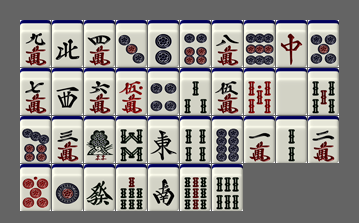0m: (116, 68, 147, 115)
0p: (20, 164, 51, 211)
0s: (244, 68, 275, 115)
1m: (244, 116, 275, 163)
1p: (52, 164, 83, 211)
1s: (84, 116, 115, 163)
1z: (148, 116, 179, 163)
2m: (308, 116, 339, 163)
2p: (148, 20, 179, 67)
2s: (276, 116, 307, 163)
2z: (148, 164, 179, 211)
3m: (52, 116, 83, 163)
3p: (116, 20, 147, 67)
3s: (180, 68, 211, 115)
3z: (52, 68, 83, 115)
4m: (84, 20, 115, 67)
4p: (148, 68, 179, 115)
4s: (180, 116, 211, 163)
4z: (52, 20, 83, 67)
5m: (212, 68, 243, 115)
5p: (308, 20, 339, 67)
5s: (308, 68, 339, 115)
5z: (276, 68, 307, 115)
6m: (84, 68, 115, 115)
6p: (180, 20, 211, 67)
6s: (212, 164, 243, 211)
6z: (84, 164, 115, 211)
7m: (20, 68, 51, 115)
7p: (20, 116, 51, 163)
7s: (116, 164, 147, 211)
7z: (276, 20, 307, 67)
8m: (212, 20, 243, 67)
8p: (212, 116, 243, 163)
8s: (116, 116, 147, 163)
9m: (20, 20, 51, 67)
9p: (244, 20, 275, 67)
9s: (180, 164, 211, 211)
